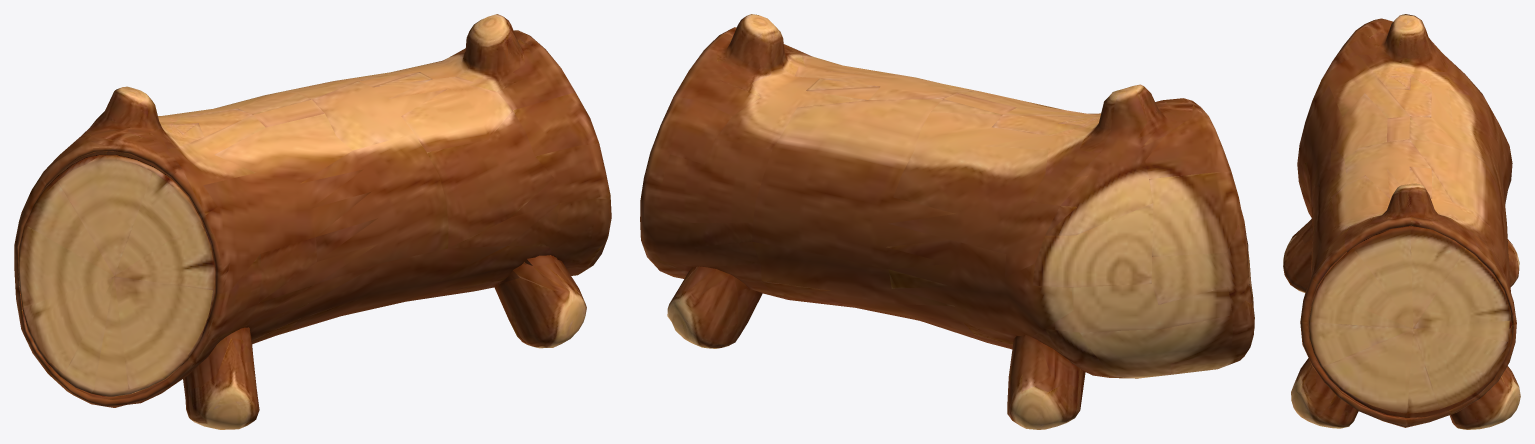
Rendered from logseat.glb.
3 renders of one model, left to right at view 1: azimuth 30°, elevation 25°; view 2: azimuth 150°, elevation 25°; view 3: azimuth 270°, elevation 25°, orthographic. The views are drawn at different scales.
Bounding box in the file's own units: 1 × 0.557 × 0.4611.
1 material, 1 textured.
